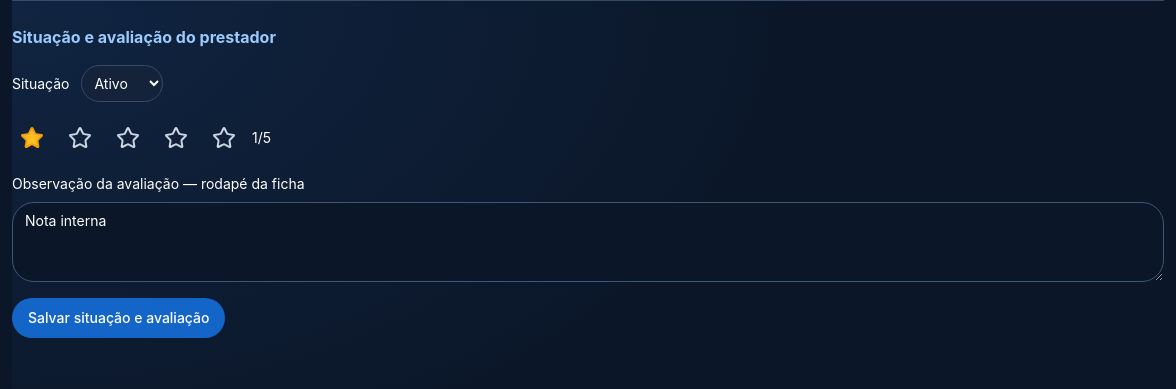
Test: Avaliação do prestador › inativa o cadastro e mantém a nota, sem informar sucesso quando a gravação falha
Select "Inativo" in the dropdown labelled "Situação": (122, 84) [82,65,164,102]
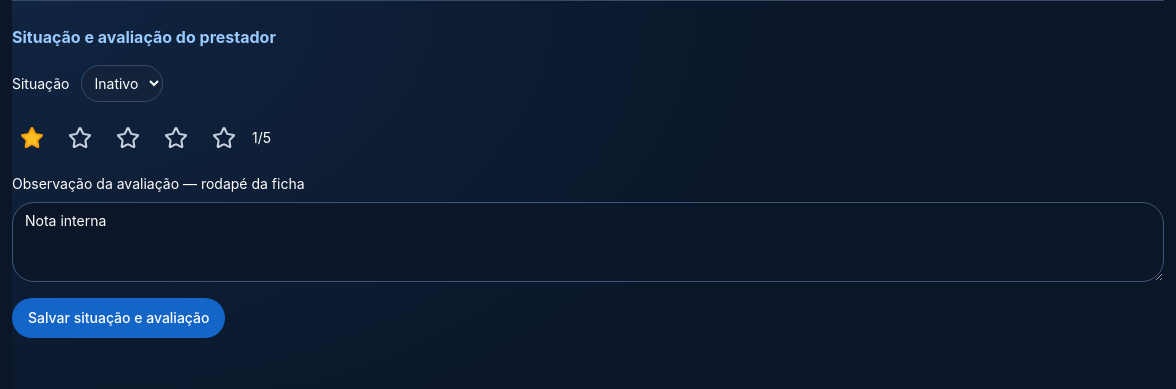
Click the button "Salvar situação e avaliação": (119, 318) [12,298,226,338]
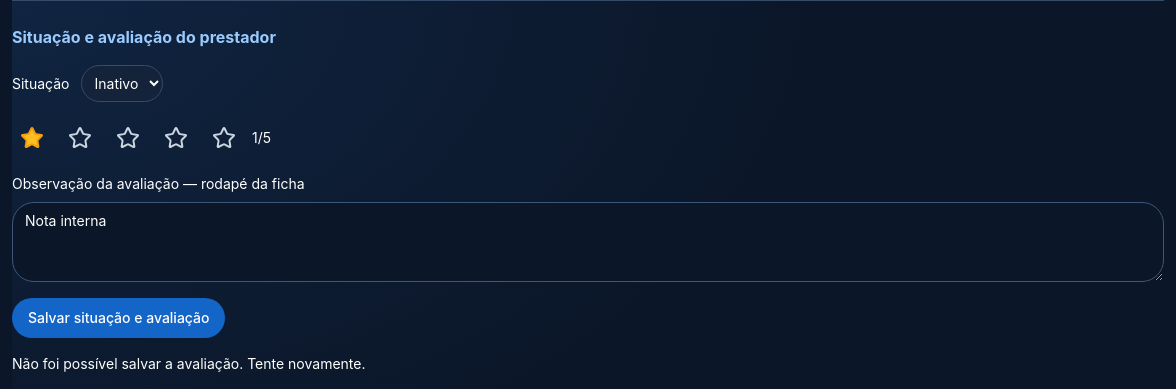
Expected: the message "Não foi possível salvar a avaliação. Tente novamente." is shown, [12,355,366,372]
